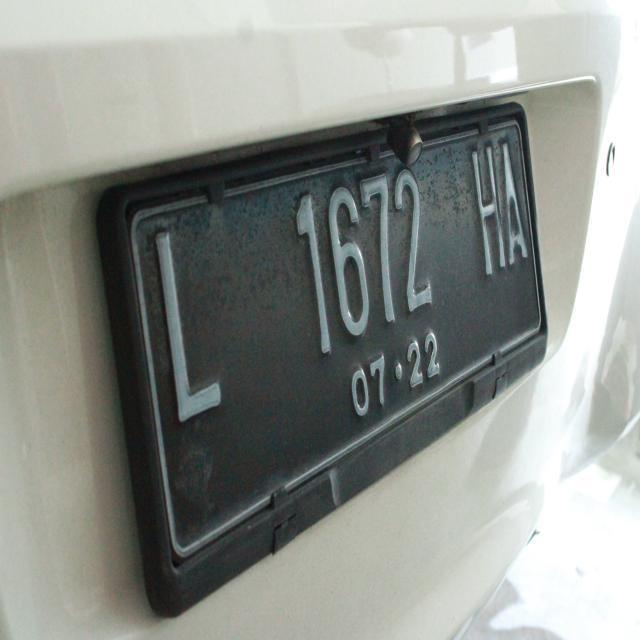1: (284, 179, 342, 371)
2: (380, 160, 443, 314)
6: (318, 177, 376, 341)
7: (356, 167, 408, 331)
A: (488, 132, 536, 272)
H: (462, 134, 514, 280)
L: (137, 202, 230, 432)
